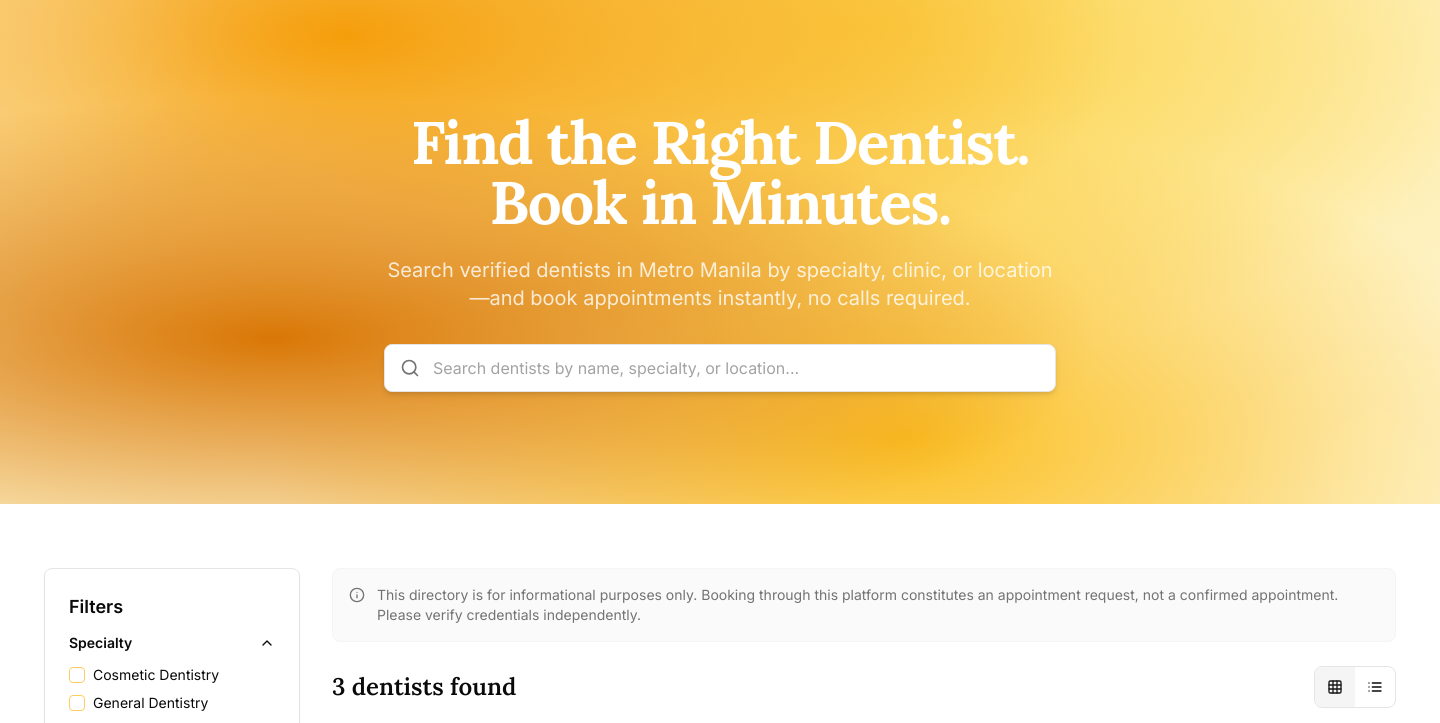
Scenario: Find a Dentist Directory Page › Search Functionality › shows all dentists when search is cleared
Type "Jane" into the field with placeholder "Search dentists by name, specialty, or location..." at [720, 368], box [384, 344, 1056, 392]
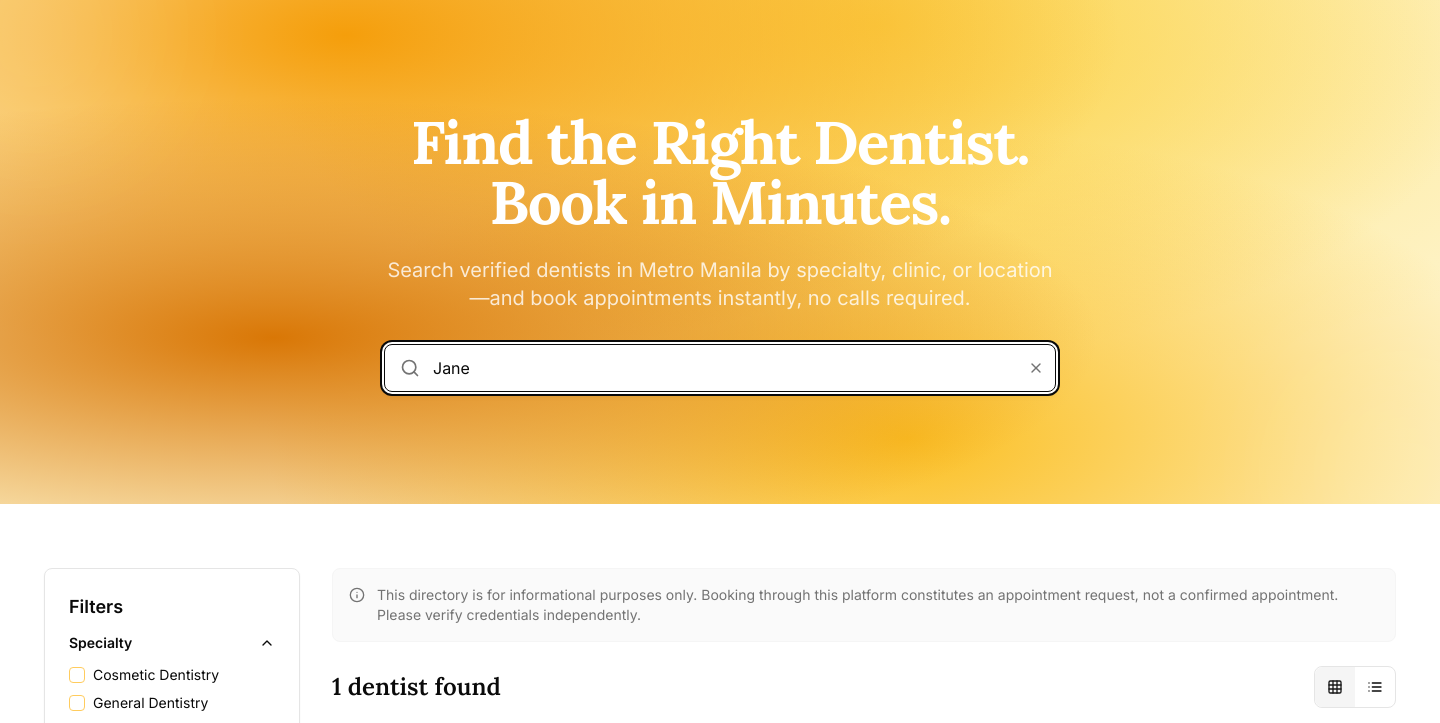
Check: the heading "1 dentist found" is shown, box [332, 671, 501, 703]
// Clear search
Click the button named "Clear search" at [1036, 368], box [1028, 360, 1044, 376]
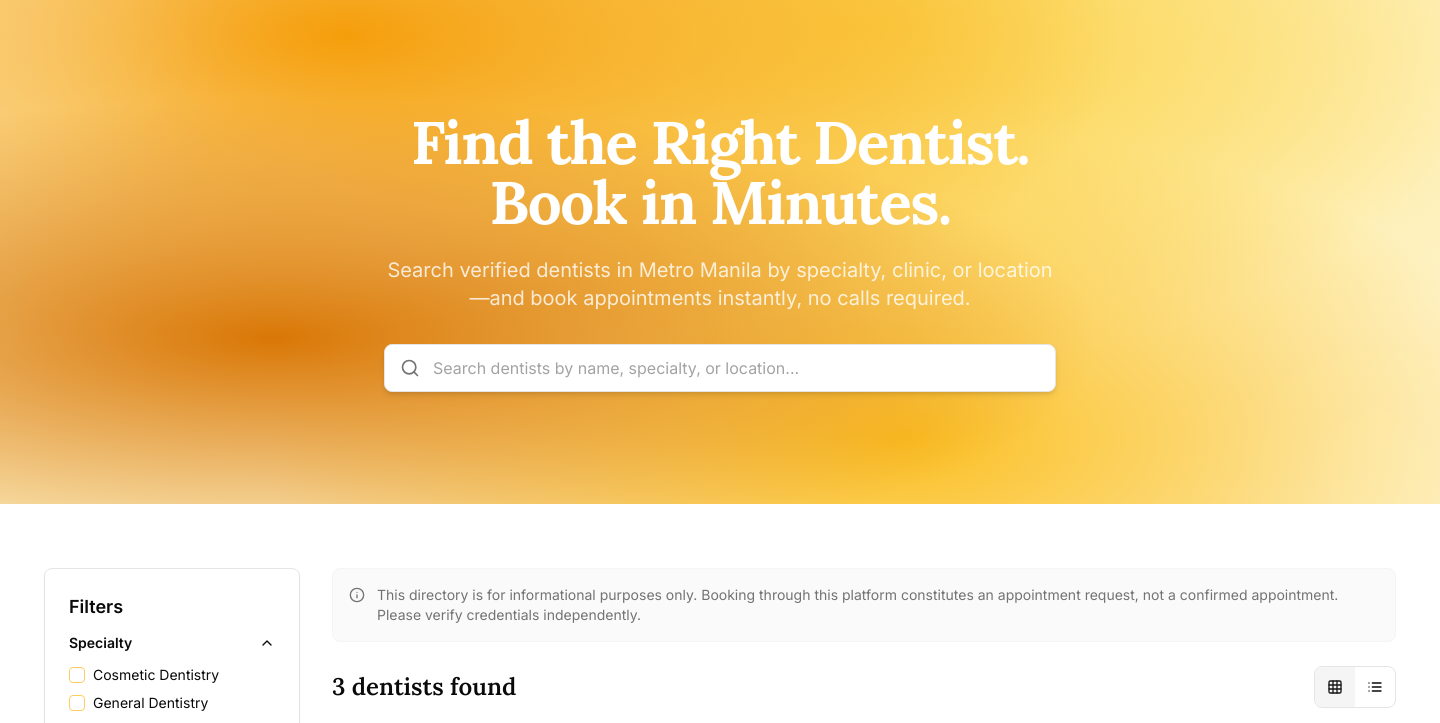
Check: the heading "3 dentists found" is shown, box [332, 671, 516, 703]
